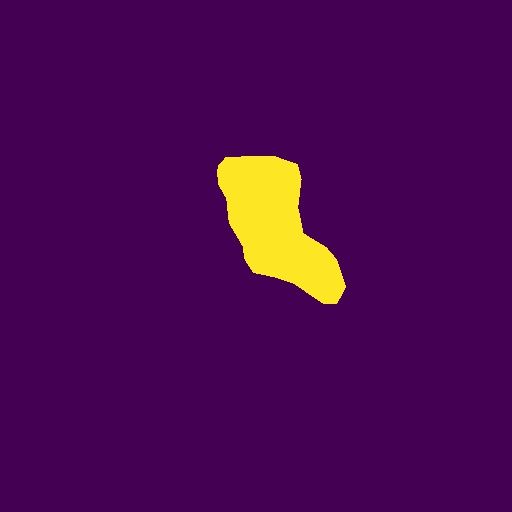Gliomia_tumour: (217, 156, 346, 304)
